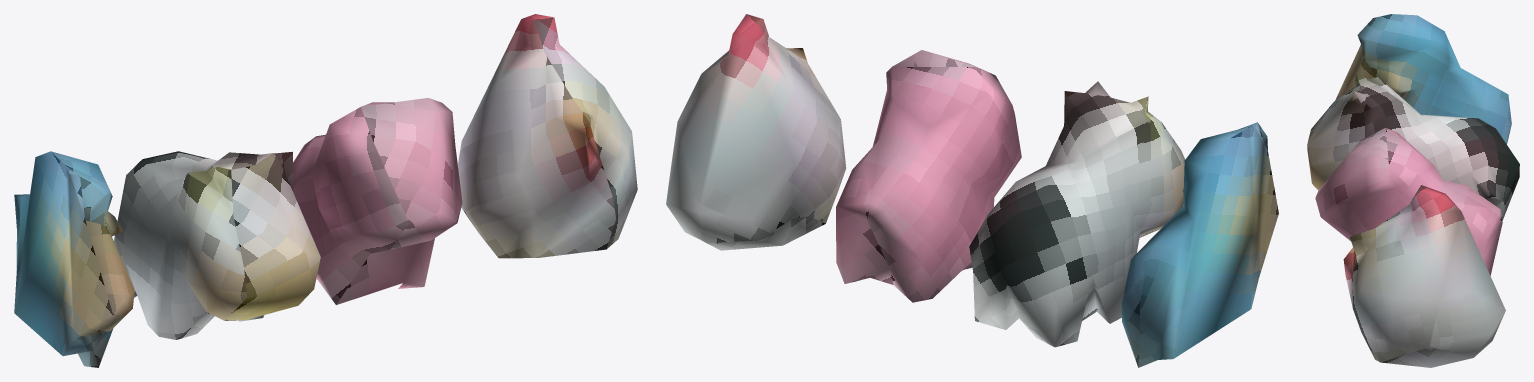
The model's file is Squirtin_Barnyard_Friends_4pk-low.glb.
3 views of the same model, side by side, from view 1: azimuth 30°, elevation 25°; view 2: azimuth 150°, elevation 25°; view 3: azimuth 270°, elevation 25° (orthographic). The views are drawn at different scales.
Parts seen in each view (by area): view 1: Squirtin_Barnyard_Friends_4pk; view 2: Squirtin_Barnyard_Friends_4pk; view 3: Squirtin_Barnyard_Friends_4pk.
Part boxes in pixels (x1,y1,x2,y2): Squirtin_Barnyard_Friends_4pk: [14, 14, 637, 367]; Squirtin_Barnyard_Friends_4pk: [666, 14, 1278, 367]; Squirtin_Barnyard_Friends_4pk: [1307, 14, 1519, 367].
Bounding box in the file's own units: 0.1856 × 0.0677 × 0.0789.
Materials: 1 (1 with a texture image).
